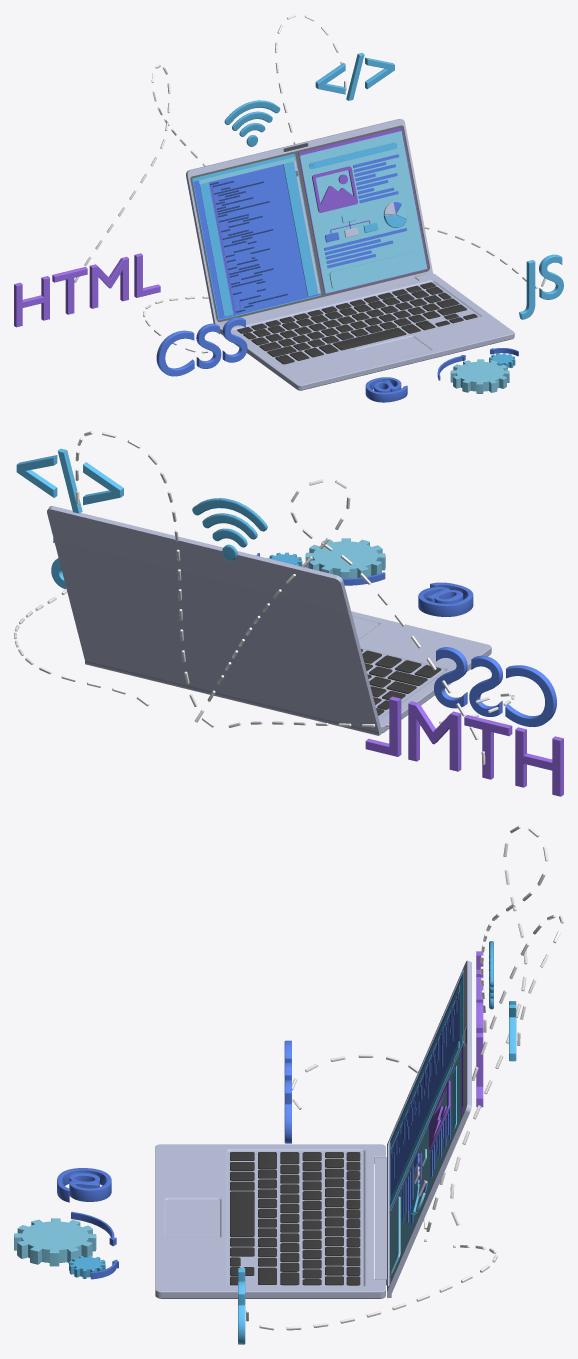
The model's file is computerModel.glb.
The picture shows the model from 3 angles, top to bottom: view 1: azimuth 30°, elevation 25°; view 2: azimuth 150°, elevation 25°; view 3: azimuth 270°, elevation 25°; orthographic projection. The views are drawn at different scales.
Parts seen in each view (by area): view 1: laptop body, Window 2 detail 001, Window 1 detail 001, laptop key bord, Window 2 detail 002, laptop screen, Window 1 detail 002, HTML, Gears, CSS, Lines, </> (+6 smaller); view 2: laptop screen, HTML, laptop body, CSS, Lines, Gears, laptop key bord, </>, Wi-Fi, @; view 3: laptop body, laptop key bord, laptop screen, Gears, Lines, Window 2 detail 001, Window 2 detail 002, Window 1 detail 001, Window 1 detail 002, @, HTML, CSS (+1 smaller).
Boxes of the visible parts, x1,y1,x2,y2 form: laptop body: (219,273,514,390); Window 2 detail 001: (192,153,321,320); Window 1 detail 001: (298,127,427,294); laptop key bord: (237,282,477,364); Window 2 detail 002: (193,157,320,319); laptop screen: (186,119,432,325); Window 1 detail 002: (309,142,419,289); HTML: (14,253,160,327); Gears: (437,348,518,393); CSS: (156,317,247,376); Lines: (74,14,545,353); </>: (315,52,394,100); laptop screen: (47,506,381,735); HTML: (365,696,563,796); laptop body: (351,611,491,733); CSS: (434,647,556,726); Lines: (14,431,514,764); Gears: (256,538,385,585); laptop key bord: (361,649,441,715); </>: (16,448,123,513); Wi-Fi: (192,498,267,560); @: (418,582,473,616); laptop body: (155,1144,385,1298); laptop key bord: (230,1152,360,1285); laptop screen: (374,960,471,1297); Gears: (14,1211,118,1279); Lines: (246,825,563,1330); Window 2 detail 001: (389,972,463,1211); Window 2 detail 002: (390,977,461,1209); Window 1 detail 001: (389,1044,463,1283); Window 1 detail 002: (389,1065,456,1274); @: (57,1168,111,1202); HTML: (476,951,483,1107); CSS: (284,1040,291,1143).
Size of the model in its own units: 10.39 by 5.32 by 7.69.
